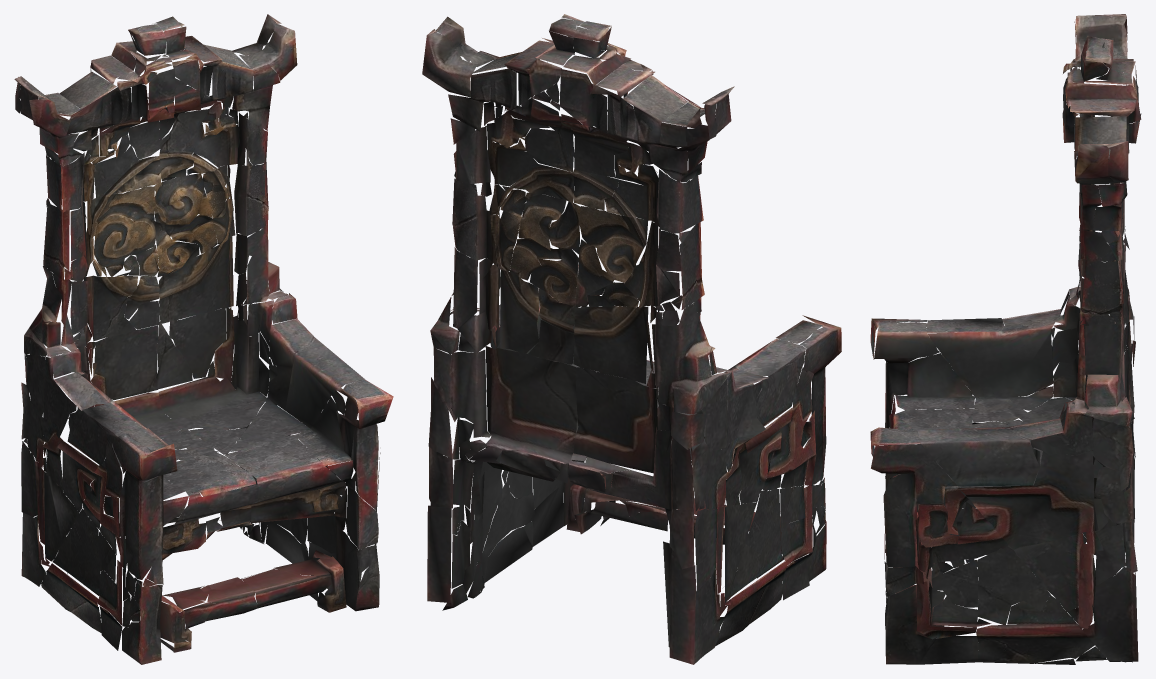
The model's file is judge_throne.glb.
3 renders of one model, left to right at view 1: azimuth 30°, elevation 25°; view 2: azimuth 150°, elevation 25°; view 3: azimuth 270°, elevation 25°, orthographic. The views are drawn at different scales.
Visible parts, largest first — view 1: tripo_node_958c547c-2be3-4566-a72b-8c0795bd872c; view 2: tripo_node_958c547c-2be3-4566-a72b-8c0795bd872c; view 3: tripo_node_958c547c-2be3-4566-a72b-8c0795bd872c.
Part boxes in pixels (bbox=[...]): tripo_node_958c547c-2be3-4566-a72b-8c0795bd872c: bbox=[14, 14, 393, 664]; tripo_node_958c547c-2be3-4566-a72b-8c0795bd872c: bbox=[422, 14, 841, 664]; tripo_node_958c547c-2be3-4566-a72b-8c0795bd872c: bbox=[870, 14, 1141, 664].
Size of the model in its own units: 0.5062 by 0.9894 by 0.4321.
Materials: 1 (1 with a texture image).
